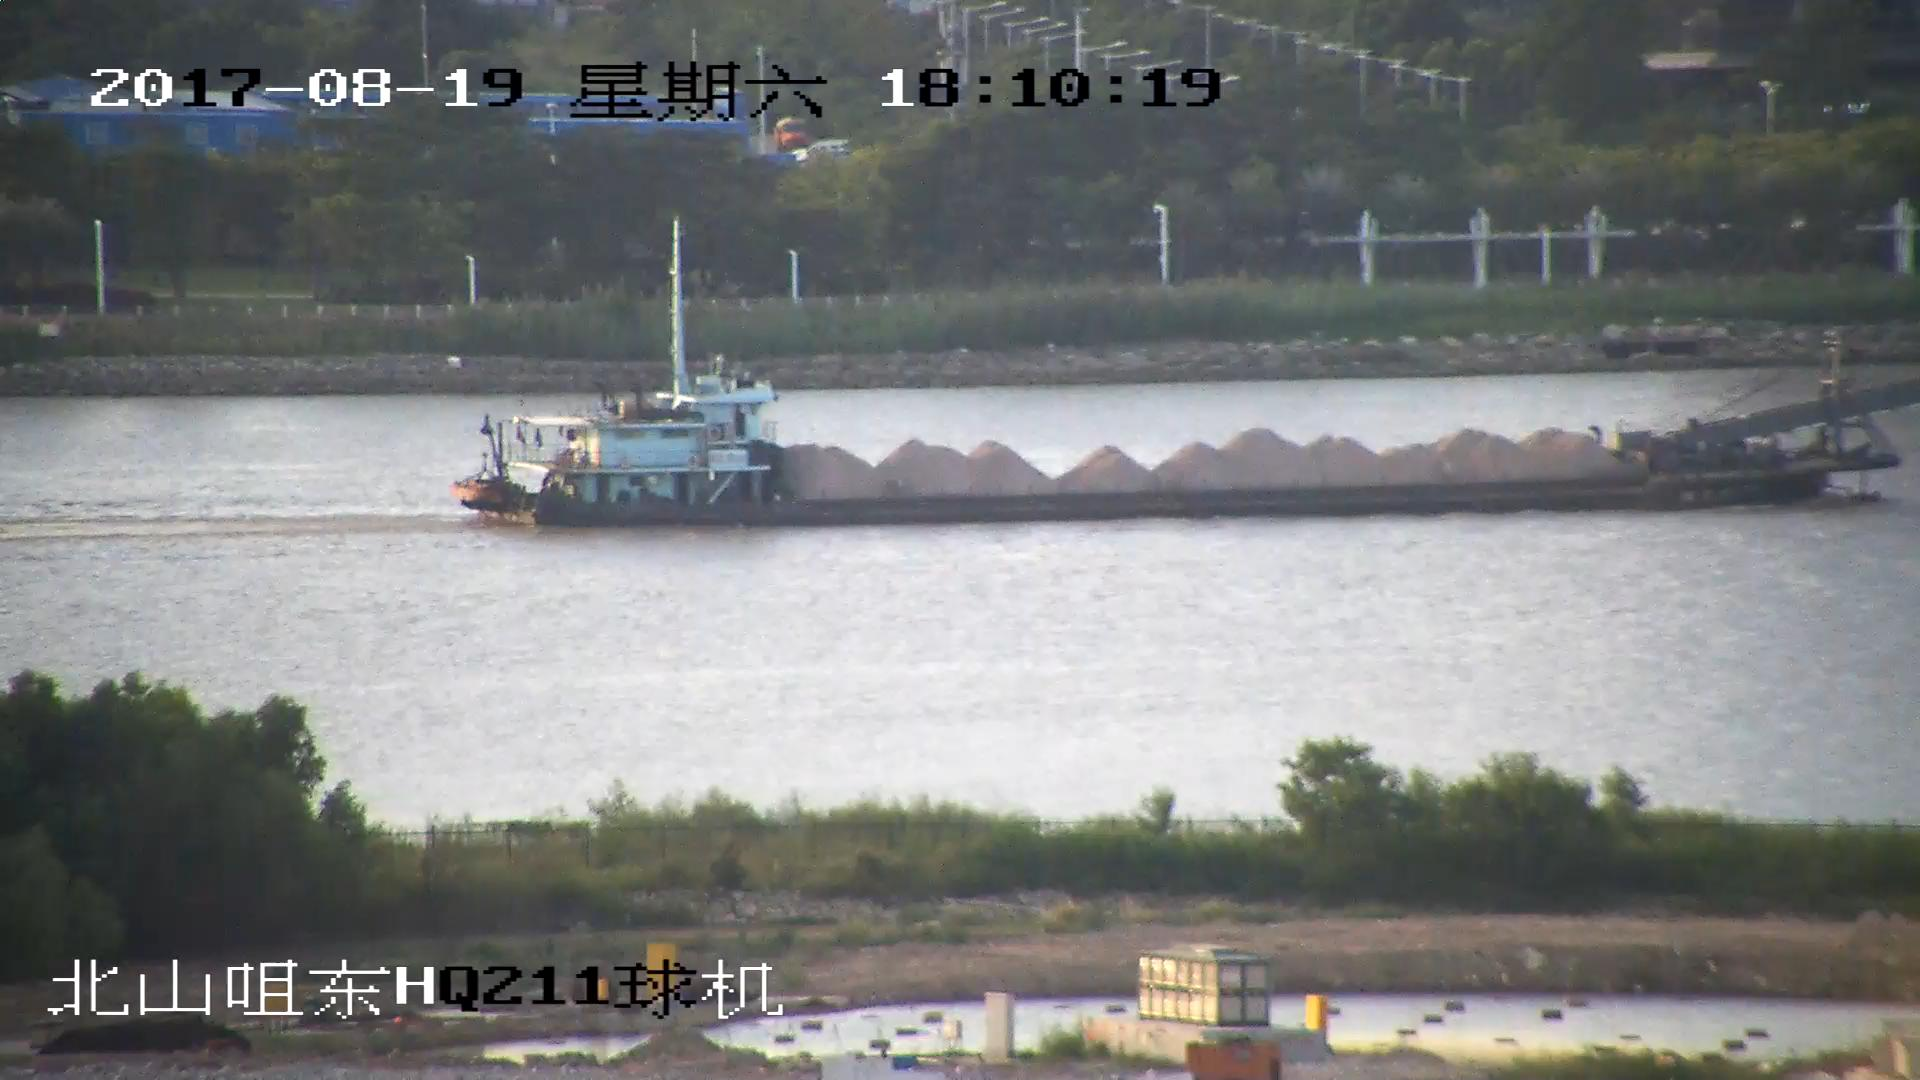ore carrier: (449, 215, 1920, 529)
